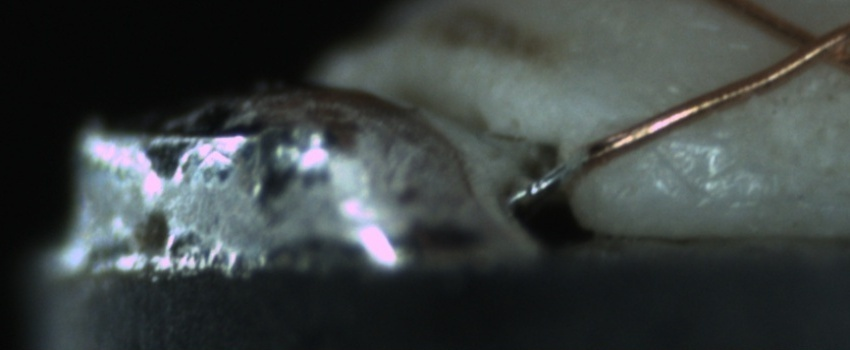CL: (770, 12, 848, 76)
TS: (507, 155, 582, 206)
